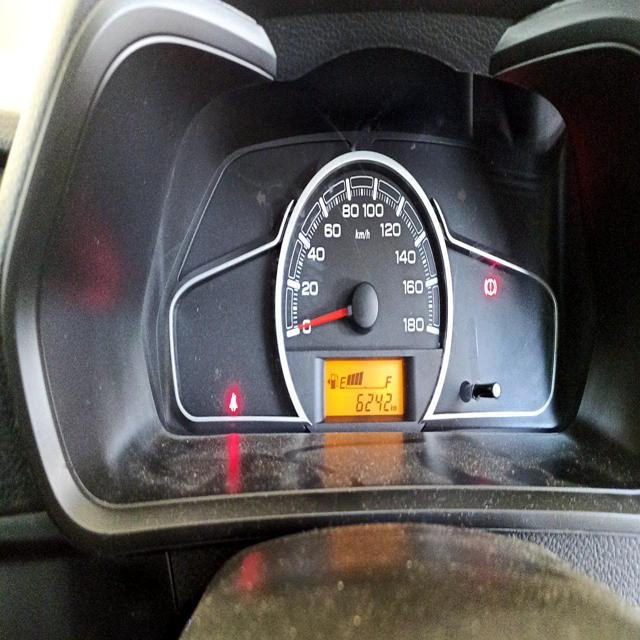odometer: (353, 389, 392, 414)
